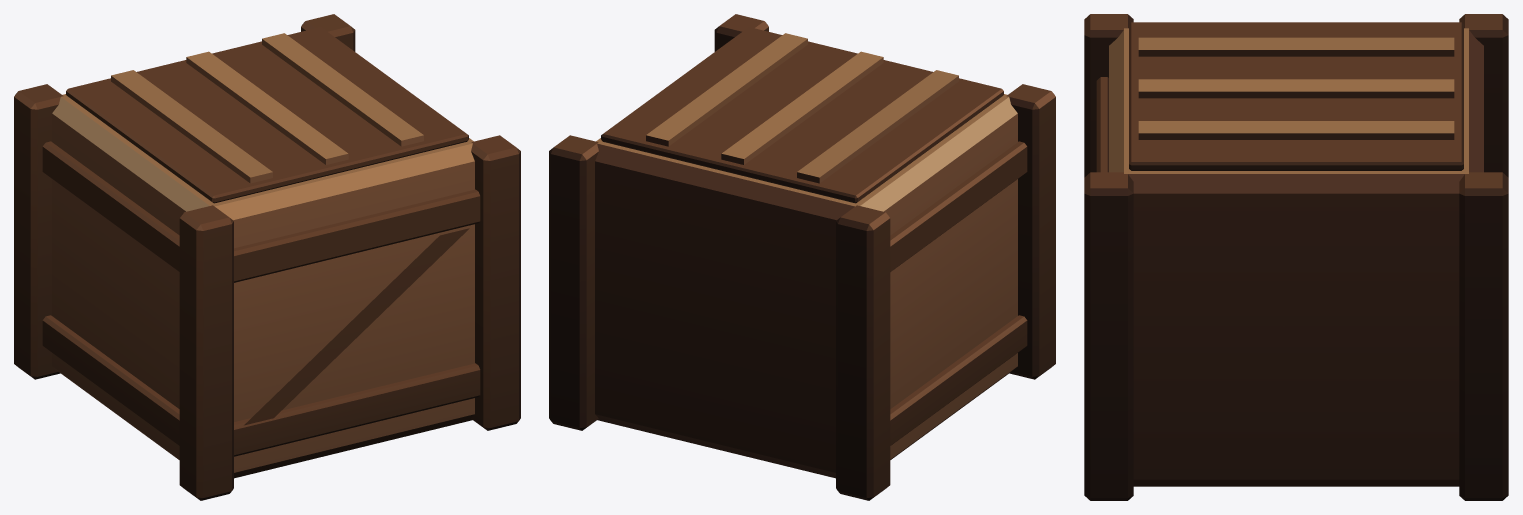
File: crate.glb
The picture shows the model from 3 angles, left to right: view 1: azimuth 30°, elevation 25°; view 2: azimuth 150°, elevation 25°; view 3: azimuth 270°, elevation 25°; orthographic projection. The views are drawn at different scales.
Visible parts, largest first — view 1: crate; view 2: crate; view 3: crate.
Boxes of the visible parts, x1,y1,x2,y2 form: crate: (14, 14, 520, 500); crate: (549, 14, 1055, 500); crate: (1084, 14, 1508, 500).
Size of the model in its own units: 0.86 by 0.735 by 0.86.
